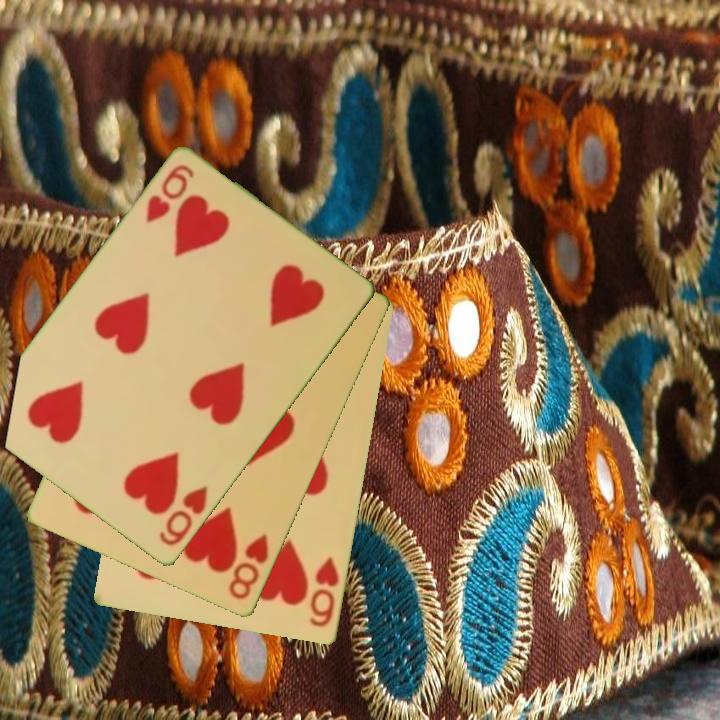6h: (155, 482, 211, 550), (142, 161, 198, 227), (306, 553, 343, 631)
8h: (225, 531, 272, 603)
